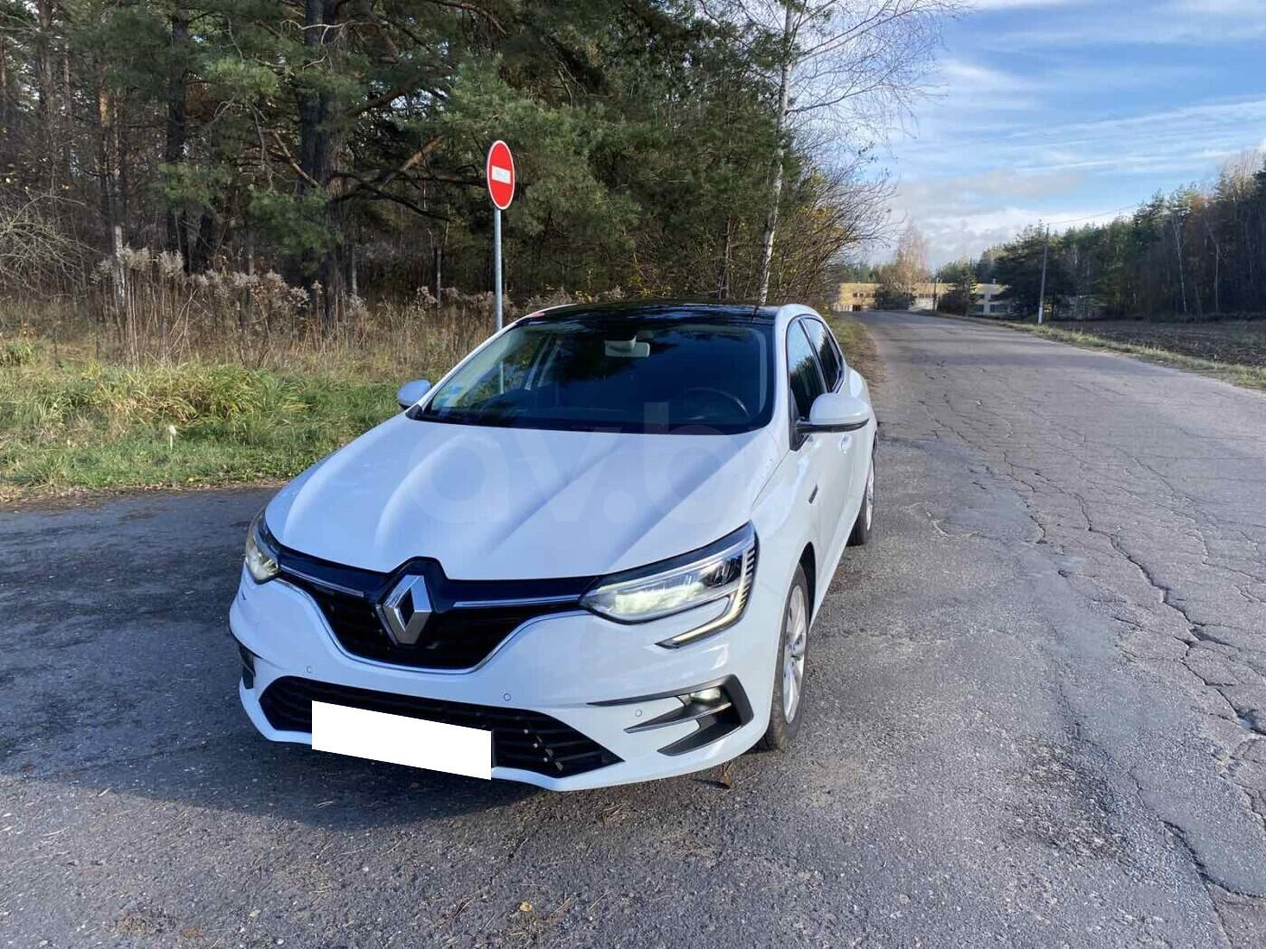Megane_2020: (222, 305, 878, 811)
